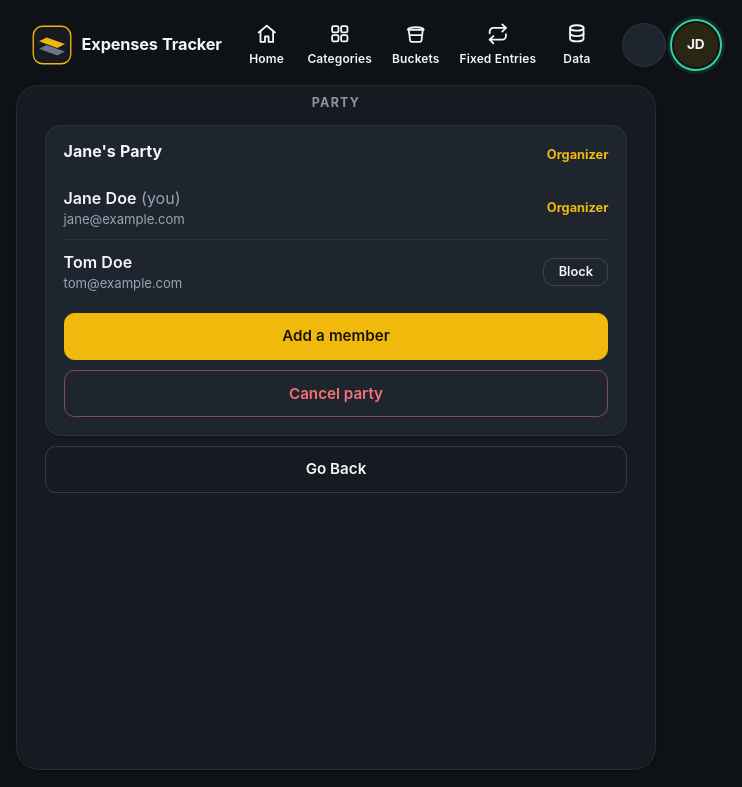
Test case: blocking a member › organizer confirms a block and the row flips to Blocked
Click the button with aria-label "Block Tom Doe".
click(576, 272)  # box [543,258,608,286]
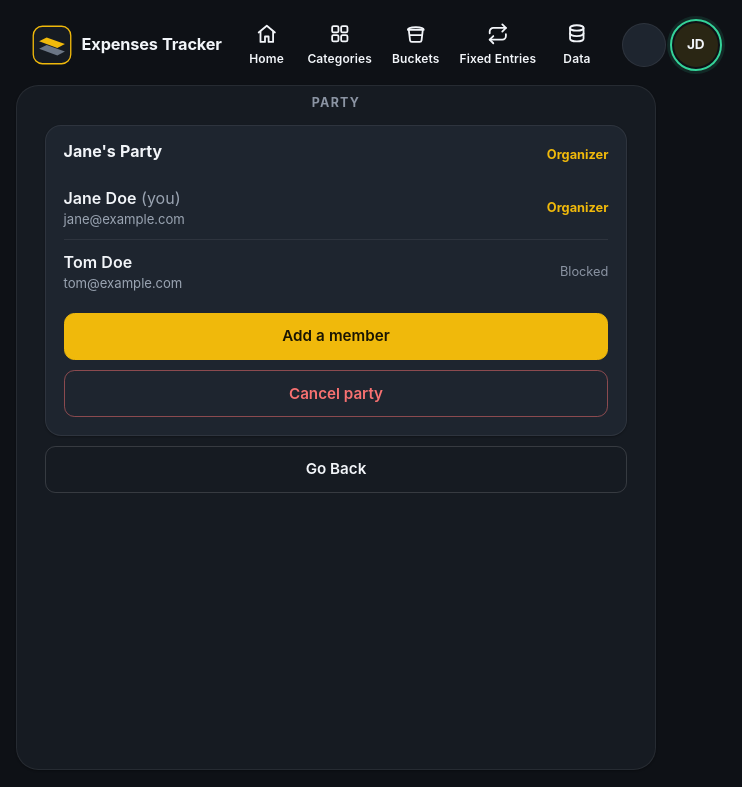
Expected: the text "Tom Doe" is shown, [64,252,132,272]
Expected: the text "Blocked" is shown, [560,262,608,281]
